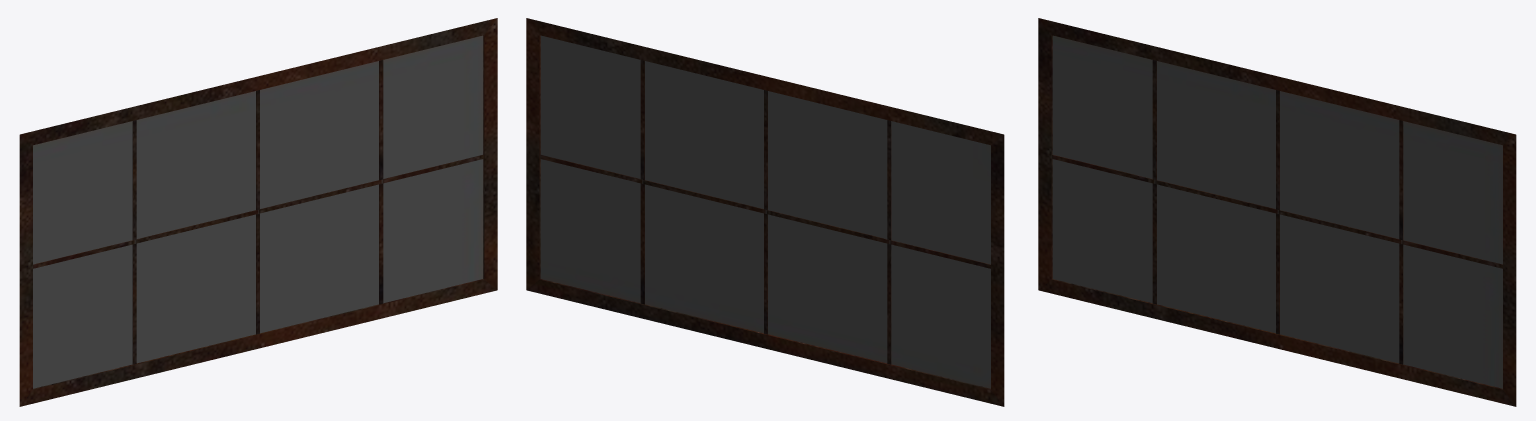
The model's file is strenghtened_glass_window_textured.glb.
The picture shows the model from 3 angles, left to right: view 1: azimuth 30°, elevation 25°; view 2: azimuth 150°, elevation 25°; view 3: azimuth 330°, elevation 25°; orthographic projection.
Parts seen in each view (by area): view 1: Cube; view 2: Cube; view 3: Cube.
Boxes of the visible parts, bbox=[...] form: Cube: bbox=[19, 18, 497, 406]; Cube: bbox=[526, 18, 1004, 406]; Cube: bbox=[1038, 18, 1516, 406].
Size of the model in its own units: 1.55 by 0.8451 by 0.03.
1 material, 1 textured.
